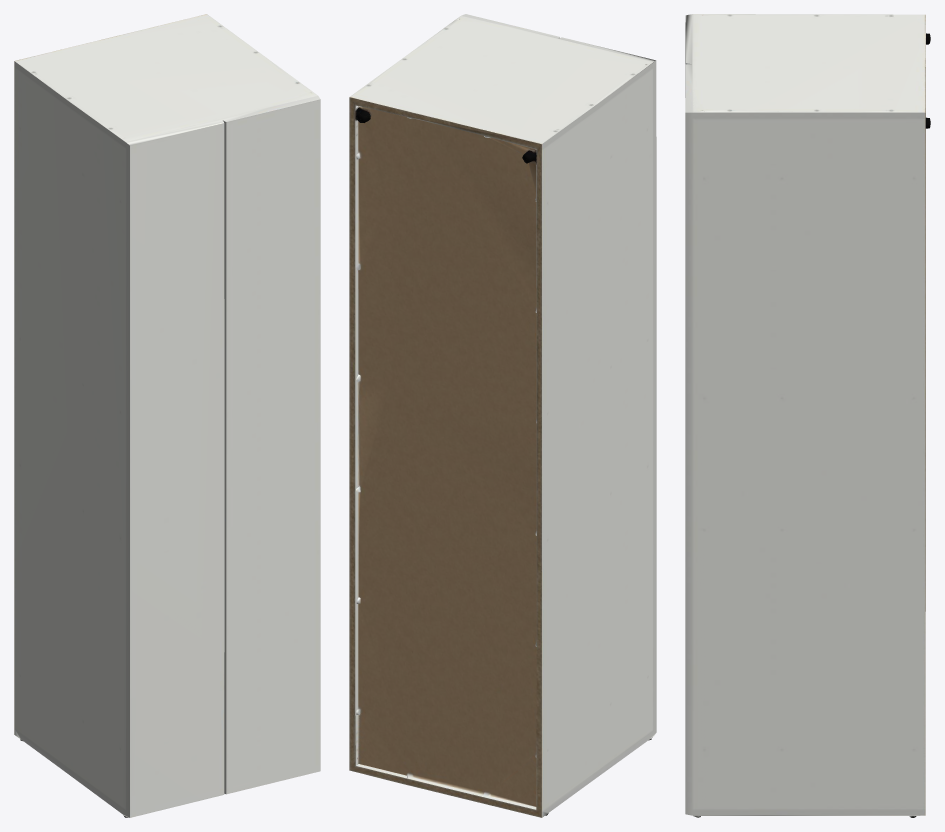
Rendered from lastare_obudowa_z_drzwiami_70596469.glb.
3 views of the same model, side by side, from view 1: azimuth 30°, elevation 25°; view 2: azimuth 150°, elevation 25°; view 3: azimuth 270°, elevation 25° (orthographic). The views are drawn at different scales.
Visible parts, largest first — view 1: lastare_obudowa_z_drzwiami_70596469; view 2: lastare_obudowa_z_drzwiami_70596469; view 3: lastare_obudowa_z_drzwiami_70596469.
Part boxes in pixels (x1,y1,x2,y2): lastare_obudowa_z_drzwiami_70596469: (14, 14, 320, 817); lastare_obudowa_z_drzwiami_70596469: (349, 14, 656, 817); lastare_obudowa_z_drzwiami_70596469: (685, 14, 930, 817).
Size of the model in its own units: 0.6003 by 2.01 by 0.6322.
1 material, 1 textured.
